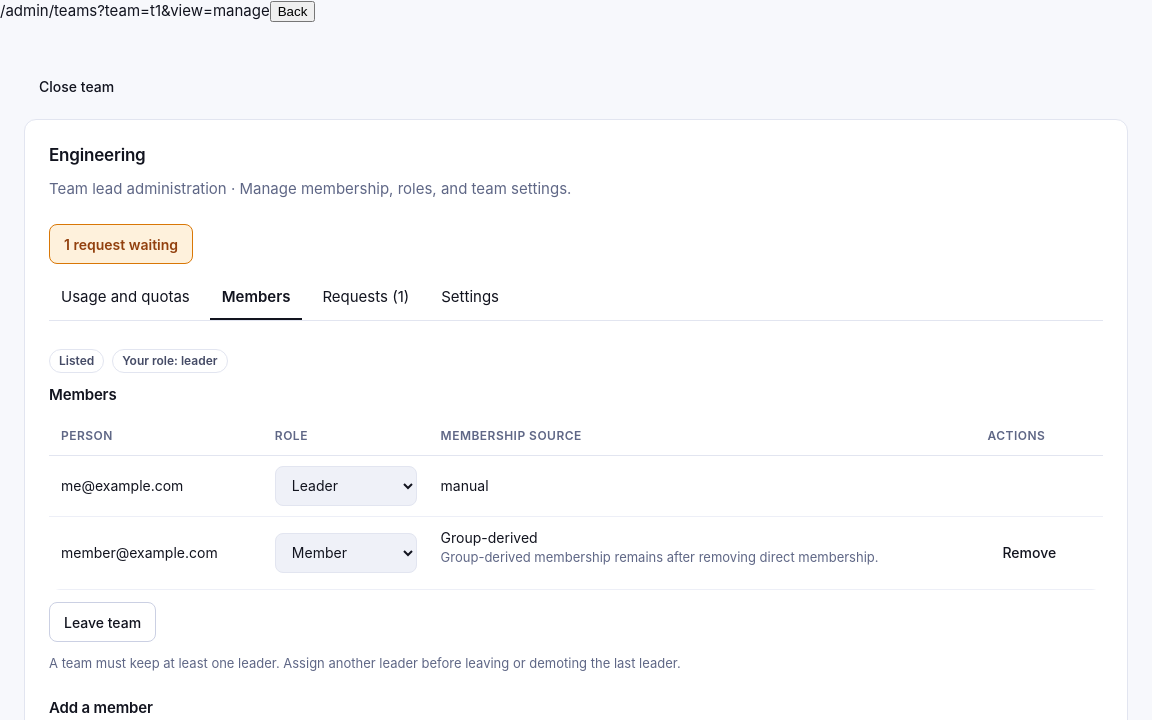
surfaces server last-leader errors instead of claiming success
Click the button "Leave team" at (103, 622), box 49,602 -> 156,642
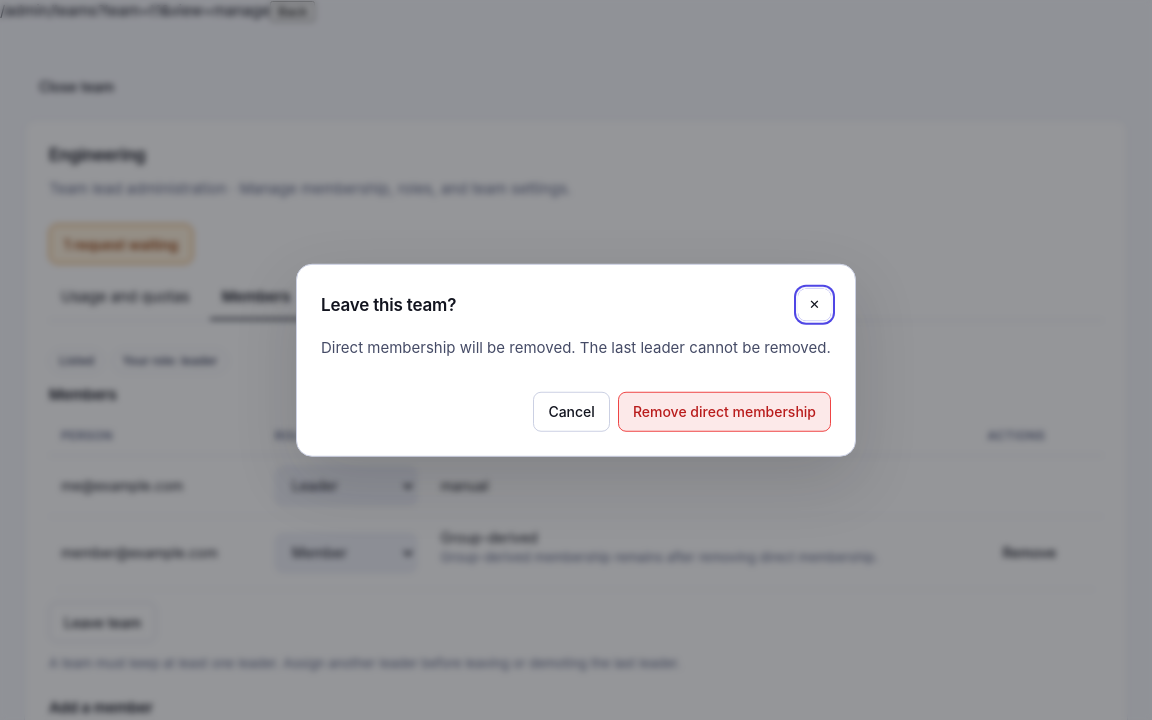
Click the button "Remove direct membership" at (724, 411), box 618,391 -> 831,431
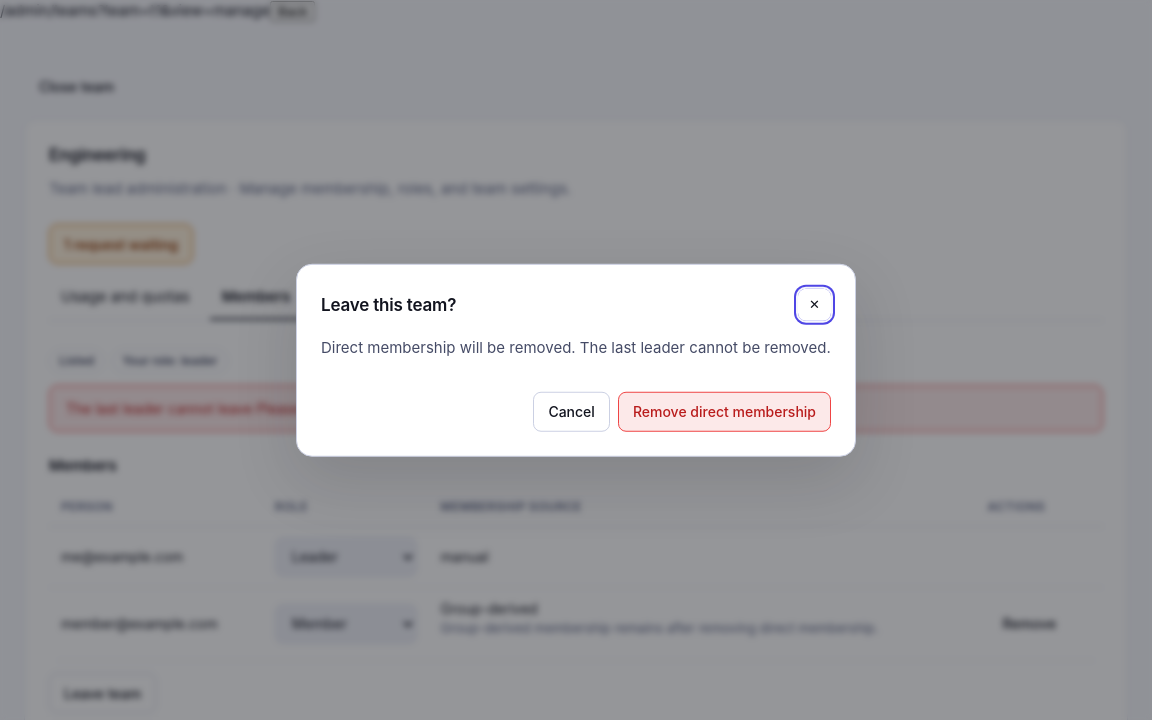
Now the text "The last leader cannot leave Please correct the action and try again." is shown, box 49,385 -> 1103,432
